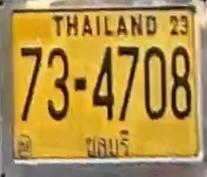0: (143, 46, 166, 119)
3: (46, 47, 68, 120)
4: (92, 46, 113, 119)
7: (20, 47, 42, 122), (117, 45, 139, 119)
8: (170, 46, 191, 118)
CBI: (79, 127, 135, 159)
